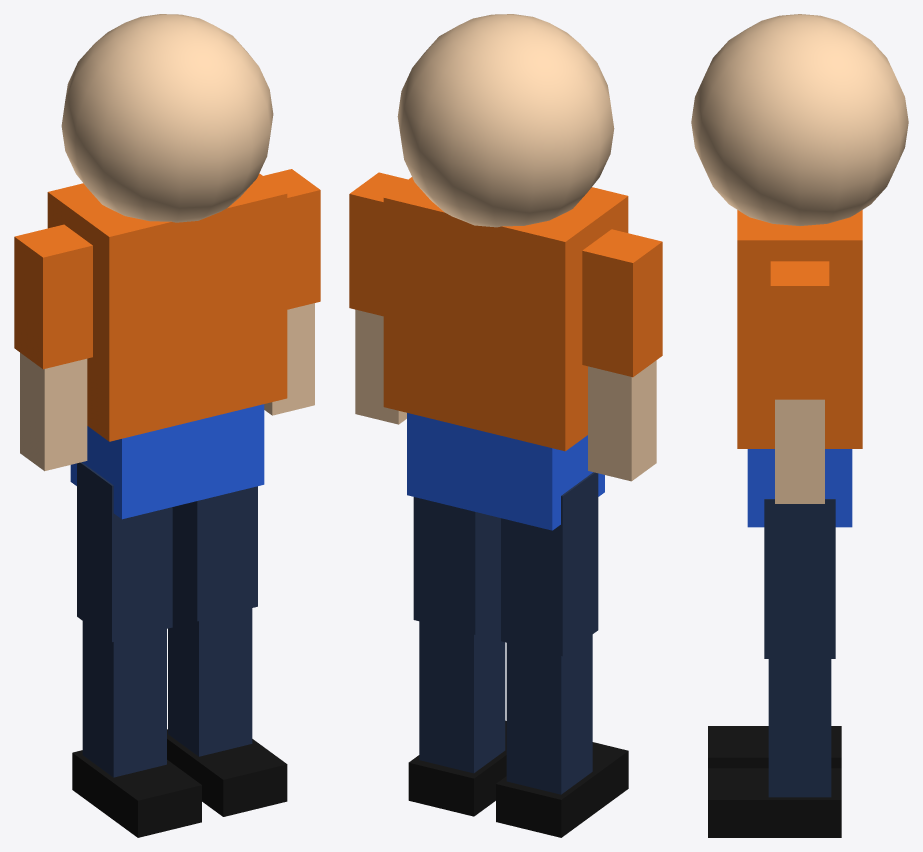
The model's file is char.glb.
3 views of the same model, side by side, from view 1: azimuth 30°, elevation 25°; view 2: azimuth 150°, elevation 25°; view 3: azimuth 270°, elevation 25° (orthographic). The views are drawn at different scales.
Visible parts, largest first — view 1: torso, head, hips, leg_L, knee_L, knee_R, shoulder_L, leg_R, foot_L, elbow_L, foot_R, shoulder_R (+1 smaller); view 2: torso, head, hips, leg_L, knee_L, knee_R, shoulder_L, leg_R, elbow_L, foot_L, shoulder_R, foot_R (+1 smaller); view 3: head, torso, leg_R, knee_R, shoulder_R, foot_R, elbow_R, hips, foot_L.
Part boxes in pixels (x1,y1,x2,y2): torso: (47,173,287,441); head: (61,14,273,222); hips: (70,404,264,519); leg_L: (77,462,172,641); knee_L: (82,621,166,777); knee_R: (168,603,252,756); shoulder_L: (14,224,92,369); leg_R: (172,486,257,621); foot_L: (72,750,201,837); elbow_L: (20,352,87,471); foot_R: (167,729,287,816); shoulder_R: (263,169,320,309); torso: (383,177,628,451); head: (397,14,614,227); hips: (407,413,604,530); leg_L: (501,472,598,656); knee_L: (506,634,592,794); knee_R: (419,616,505,773); shoulder_L: (582,229,662,377); leg_R: (413,497,500,634); elbow_L: (588,360,656,481); foot_L: (496,742,628,837); shoulder_R: (349,172,407,316); foot_R: (408,720,506,816); head: (691,14,908,225); torso: (737,210,862,448); leg_R: (764,499,835,658); knee_R: (768,659,831,797); shoulder_R: (770,261,829,399); foot_R: (708,768,841,837); elbow_R: (775,399,824,503); hips: (747,449,852,527); foot_L: (708,726,841,768).
Bounding box in the file's own units: 0.78 × 2.05 × 0.52.
